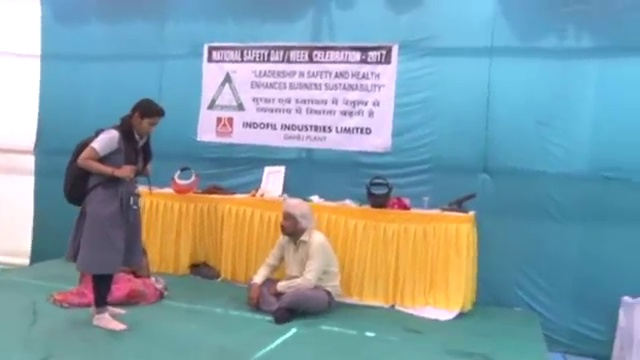helmet_off: (277, 197, 312, 238), (130, 101, 165, 139)
person: (60, 99, 165, 337), (242, 196, 341, 327)
